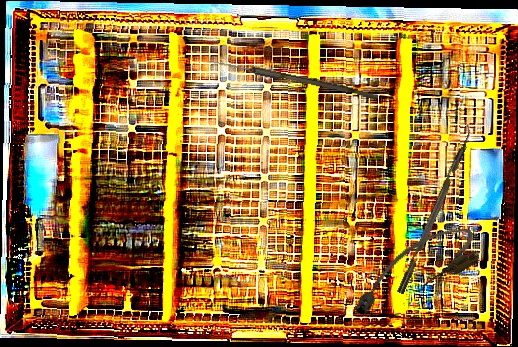Cannula: (341, 217, 486, 324)
Chopper: (388, 121, 478, 295)
Surgical Spoon: (207, 57, 380, 100)
